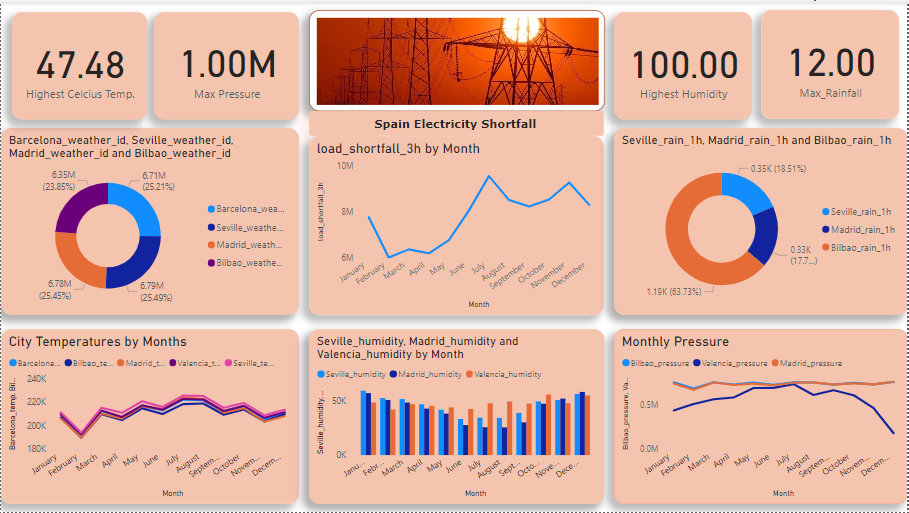

The page's visual inventory and layout, read from the dashboard file:
{"tool":"powerbi","page":{"name":"Page 1","canvas":[1280,720],"ordinal":0},"visuals":[{"type":"image","box":[434.8,11.3,417.9,142.6],"z":0},{"type":"lineChart","title":"Monthly Pressure","fields":{"Y":["Sum(cleaned_train.Bilbao_pressure)","Sum(cleaned_train.Valencia_pressure)","Sum(cleaned_train.Madrid_pressure)"],"Category":["cleaned_train.time.Variation.Date Hierarchy.Month"]},"box":[864.7,462.3,415.3,246.9],"z":1000},{"type":"card","fields":{"Values":["cleaned_train.Max_Rainfall"]},"box":[1073.2,12,194.8,153.8],"z":2000},{"type":"lineChart","title":"City Temperatures by Months","fields":{"Category":["cleaned_train.time.Variation.Date Hierarchy.Month"],"Y":["Sum(cleaned_train.Barcelona_temp)","Sum(cleaned_train.Bilbao_temp)","Sum(cleaned_train.Madrid_temp)","Sum(cleaned_train.Valencia_temp)","Sum(cleaned_train.Seville_temp)"]},"box":[0,462.3,421,246.9],"z":3000},{"type":"card","fields":{"Values":["cleaned_train.Highest Humidity"]},"box":[864.7,13.7,194.8,152.1],"z":4000},{"type":"lineChart","fields":{"Category":["df_train.time.Variation.Date Hierarchy.Month"],"Y":["Sum(df_train.load_shortfall_3h)"]},"box":[434.8,189.2,416.5,252.7],"z":5000},{"type":"clusteredColumnChart","fields":{"Category":["cleaned_train.time.Variation.Date Hierarchy.Month"],"Y":["Sum(cleaned_train.Seville_humidity)","Sum(cleaned_train.Madrid_humidity)","Sum(cleaned_train.Valencia_humidity)"]},"box":[435.2,462.3,416.7,246.9],"z":6000},{"type":"card","fields":{"Values":["cleaned_train.Max Pressure"]},"box":[216,14.1,204.7,152.5],"z":7000},{"type":"donutChart","fields":{"Y":["Sum(cleaned_train.Barcelona_weather_id)","Sum(cleaned_train.Seville_weather_id)","Sum(cleaned_train.Madrid_weather_id)","Sum(cleaned_train.Bilbao_weather_id)"]},"box":[0,178.4,421,264],"z":8000},{"type":"donutChart","fields":{"Y":["Sum(cleaned_train.Seville_rain_1h)","Sum(cleaned_train.Madrid_rain_1h)","Sum(cleaned_train.Bilbao_rain_1h)"]},"box":[864.7,178.4,415.3,264],"z":9000},{"type":"card","fields":{"Values":["cleaned_train.Max Celcius Temp."]},"box":[15.4,13.7,191.4,152.1],"z":10000},{"type":"textbox","box":[434.8,153.9,416.5,35.3],"z":10001}]}

Visuals, with their boxes in screenshot pixels (x1, y1, x2, y2), scaled from the page's 1280x720 canvas onto the 909x513 screenshot:
image: {"left": 309, "top": 8, "right": 606, "bottom": 110}
"Monthly Pressure" lineChart: {"left": 614, "top": 329, "right": 908, "bottom": 505}
card - cleaned_train.Max_Rainfall: {"left": 762, "top": 9, "right": 900, "bottom": 118}
"City Temperatures by Months" lineChart: {"left": 0, "top": 329, "right": 299, "bottom": 505}
card - cleaned_train.Highest Humidity: {"left": 614, "top": 10, "right": 752, "bottom": 118}
lineChart - df_train.time.Variation.Date Hierarchy.Month x Sum(df_train.load_shortfall_3h): {"left": 309, "top": 135, "right": 605, "bottom": 315}
clusteredColumnChart - cleaned_train.time.Variation.Date Hierarchy.Month x Sum(cleaned_train.Seville_humidity): {"left": 309, "top": 329, "right": 605, "bottom": 505}
card - cleaned_train.Max Pressure: {"left": 153, "top": 10, "right": 299, "bottom": 119}
donutChart - Sum(cleaned_train.Barcelona_weather_id) x Sum(cleaned_train.Seville_weather_id): {"left": 0, "top": 127, "right": 299, "bottom": 315}
donutChart - Sum(cleaned_train.Seville_rain_1h) x Sum(cleaned_train.Madrid_rain_1h): {"left": 614, "top": 127, "right": 908, "bottom": 315}
card - cleaned_train.Max Celcius Temp.: {"left": 11, "top": 10, "right": 147, "bottom": 118}
textbox: {"left": 309, "top": 110, "right": 605, "bottom": 135}
